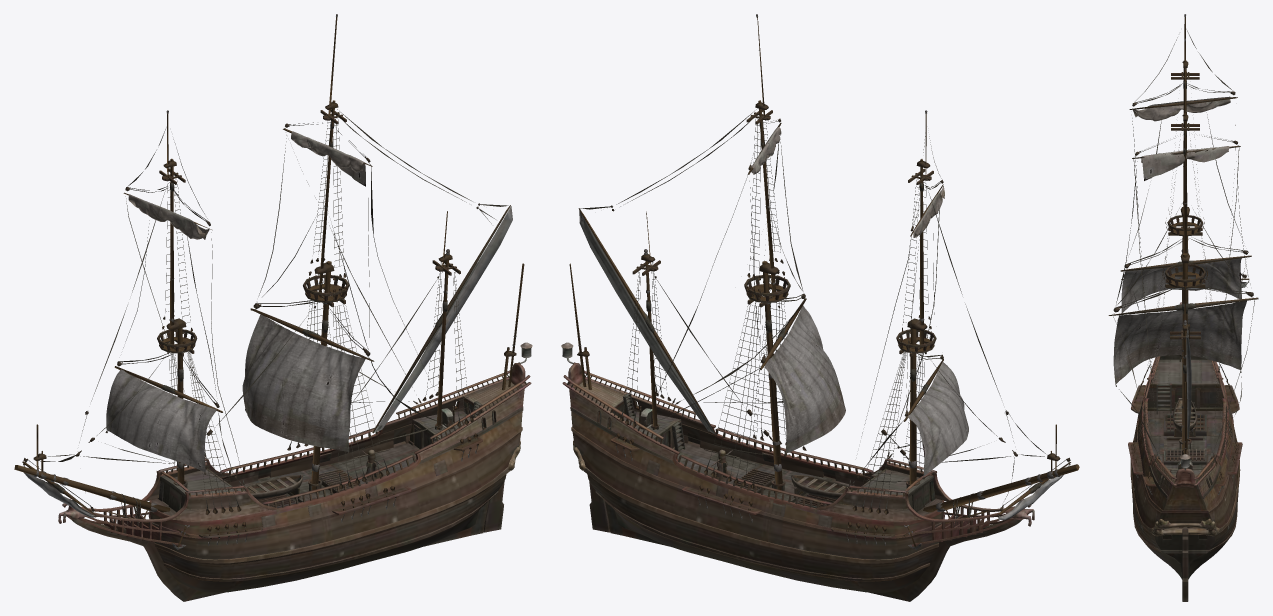
Rendered from ship-dutch-medium.8e8d2561.glb.
The picture shows the model from 3 angles, left to right: view 1: azimuth 30°, elevation 25°; view 2: azimuth 150°, elevation 25°; view 3: azimuth 270°, elevation 25°; orthographic projection. The views are drawn at different scales.
Visible parts, largest first — view 1: model; view 2: model; view 3: model.
Boxes of the visible parts, bbox=[...] form: model: bbox=[14, 14, 532, 601]; model: bbox=[561, 14, 1079, 601]; model: bbox=[1108, 14, 1258, 601].
Bounding box in the file's own units: 24.07 × 24.66 × 6.81.
3 materials, 3 textured.
